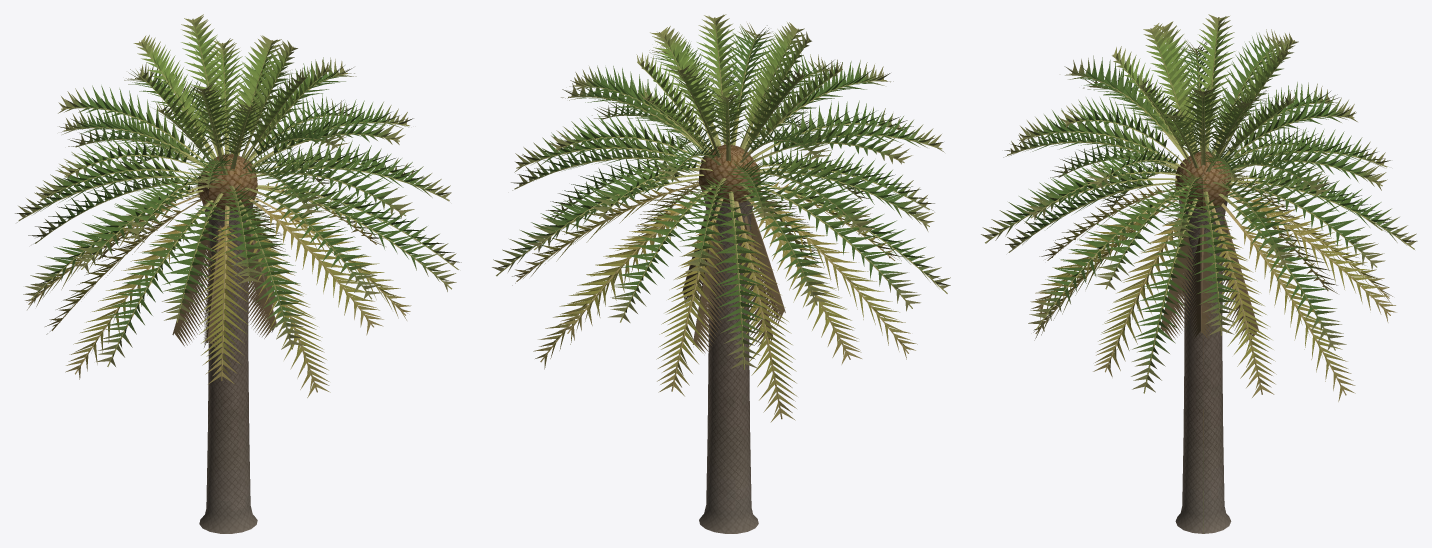
Rendered from palm-v2.glb.
The picture shows the model from 3 angles, left to right: view 1: azimuth 30°, elevation 25°; view 2: azimuth 150°, elevation 25°; view 3: azimuth 270°, elevation 25°; orthographic projection. The views are drawn at different scales.
Parts seen in each view (by area): view 1: palm; view 2: palm; view 3: palm.
Part boxes in pixels (bbox=[...]): palm: bbox=[15, 14, 461, 533]; palm: bbox=[492, 14, 950, 533]; palm: bbox=[981, 14, 1417, 533].
Size of the model in its own units: 8.73 by 10 by 8.31.
1 material, 1 textured.
